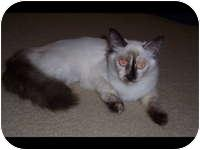siamese: (103, 25, 168, 90)
